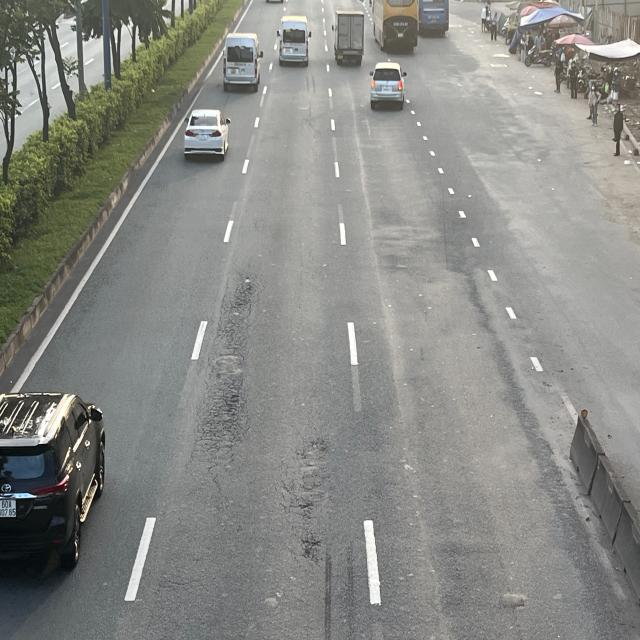car: (0, 390, 106, 570), (183, 110, 231, 160), (366, 61, 406, 108)
coach: (368, 0, 417, 52), (418, 0, 449, 36)
truck: (335, 10, 365, 67)
van: (221, 34, 260, 93), (277, 12, 311, 65)
